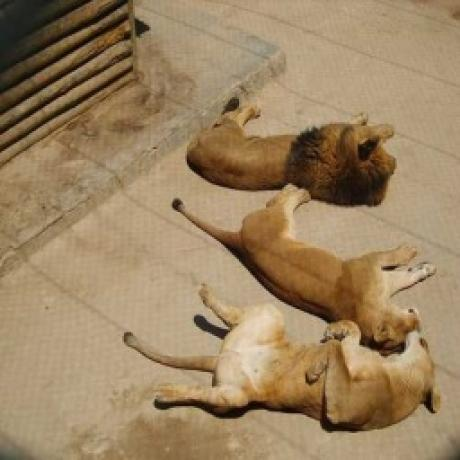Lion: (124, 281, 446, 435), (173, 184, 446, 356), (180, 97, 400, 204)
